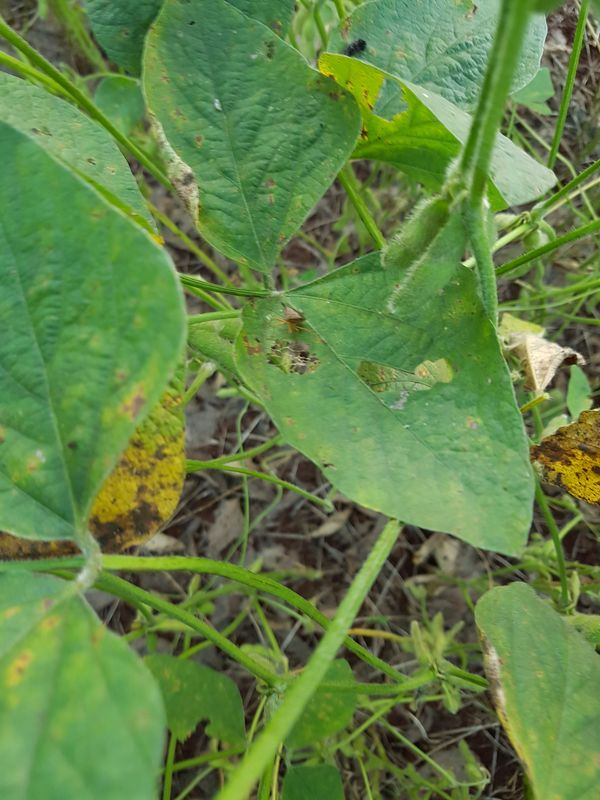Euschistus_heros_adulto: (267, 300, 313, 340)
